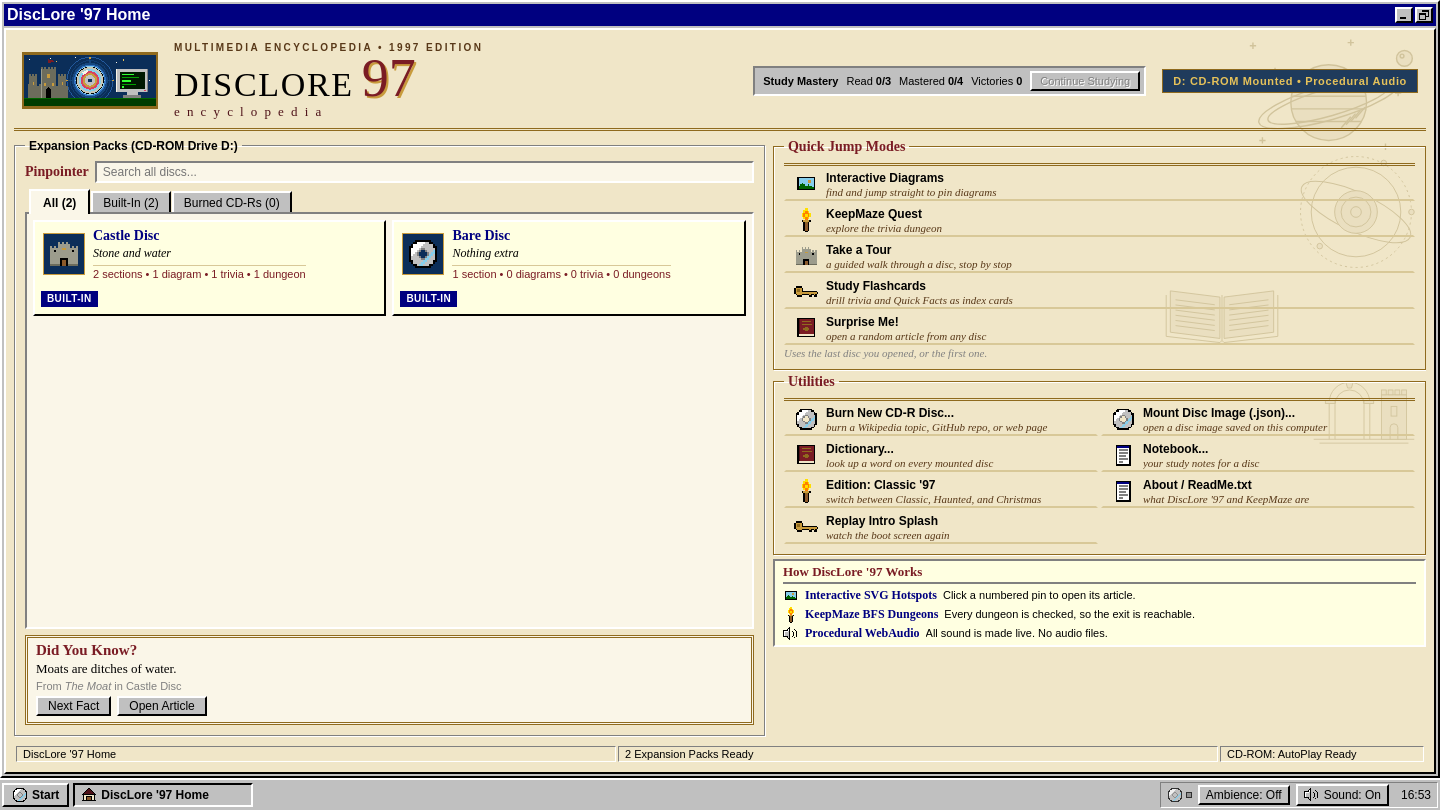
Start menu › Dictionary... opens the Dictionary
Click the button with aria-label "Start menu": point(36, 795) [2,783,69,807]
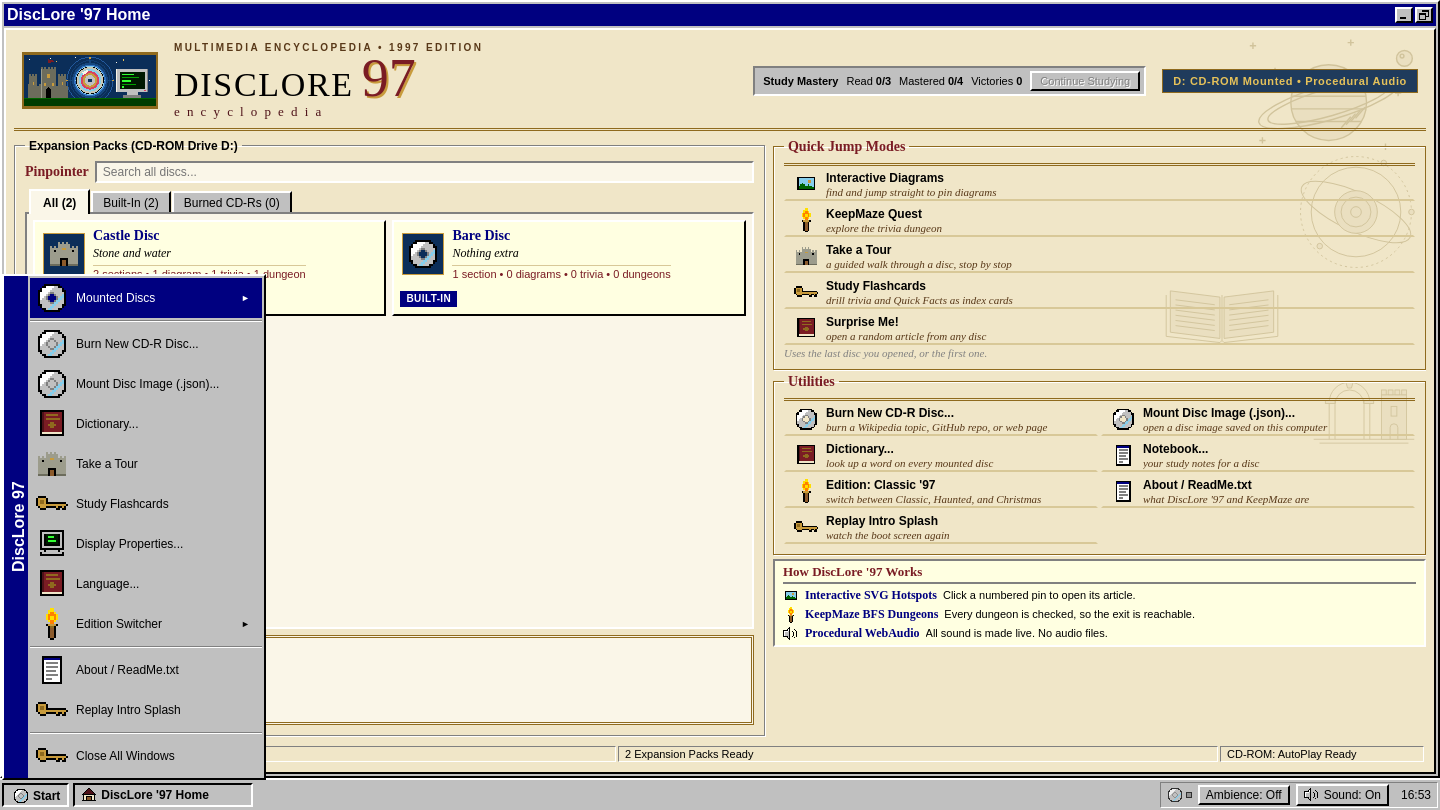
Click the menu item "Dictionary...": point(146, 424) [30,404,262,444]
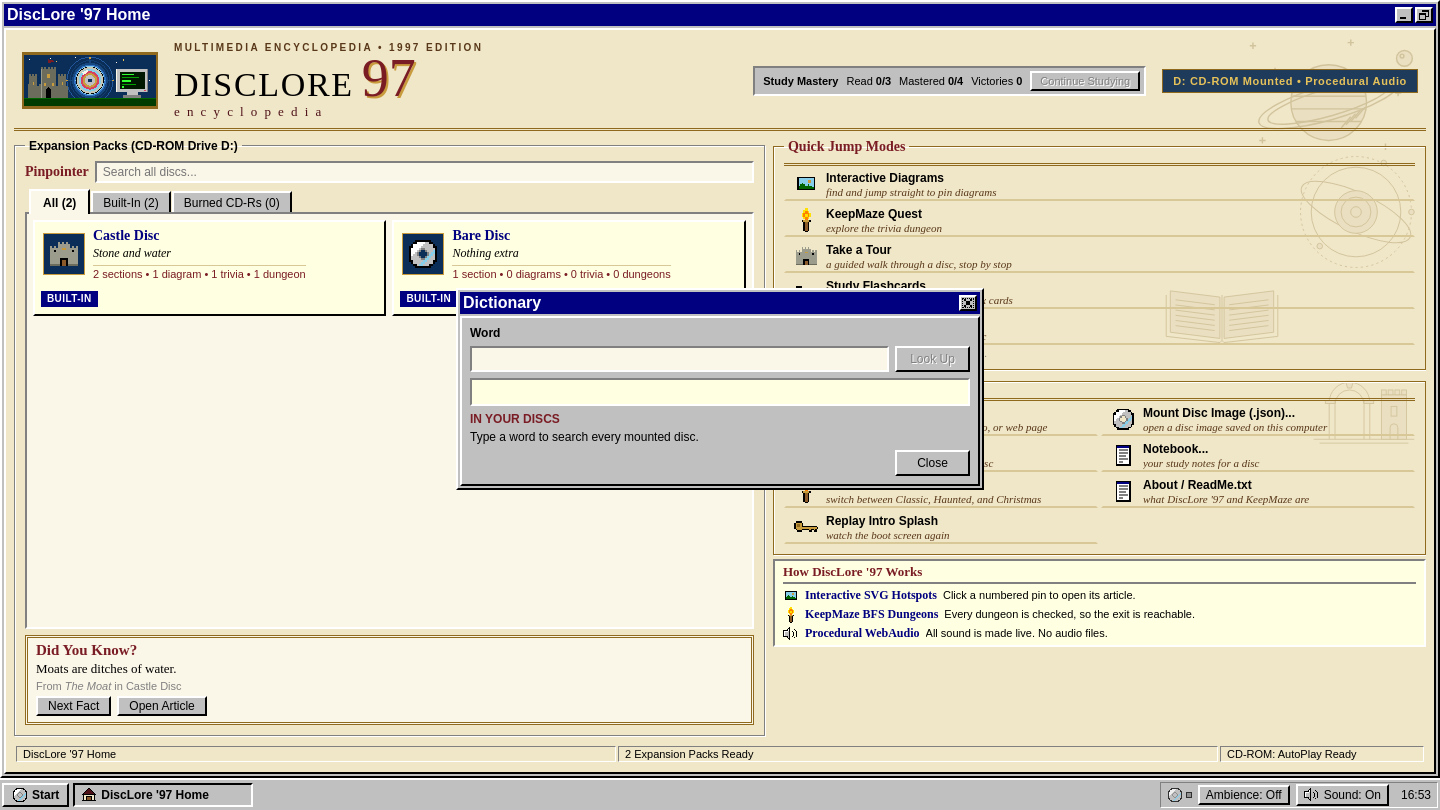
Expected: the dialog "Dictionary" is shown, [456,288,984,490]
